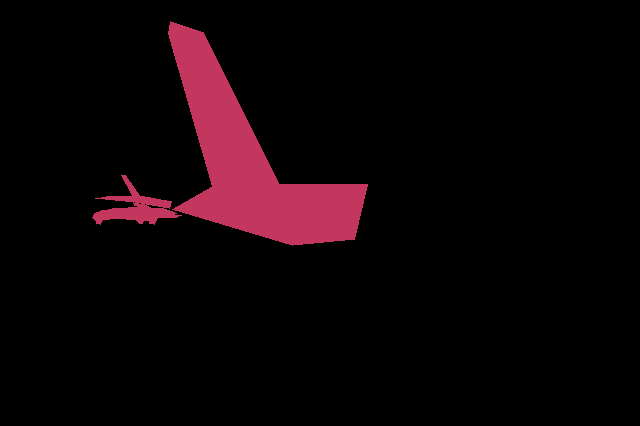Airplane: (168, 21, 368, 245), (95, 175, 172, 208), (92, 202, 182, 225)
